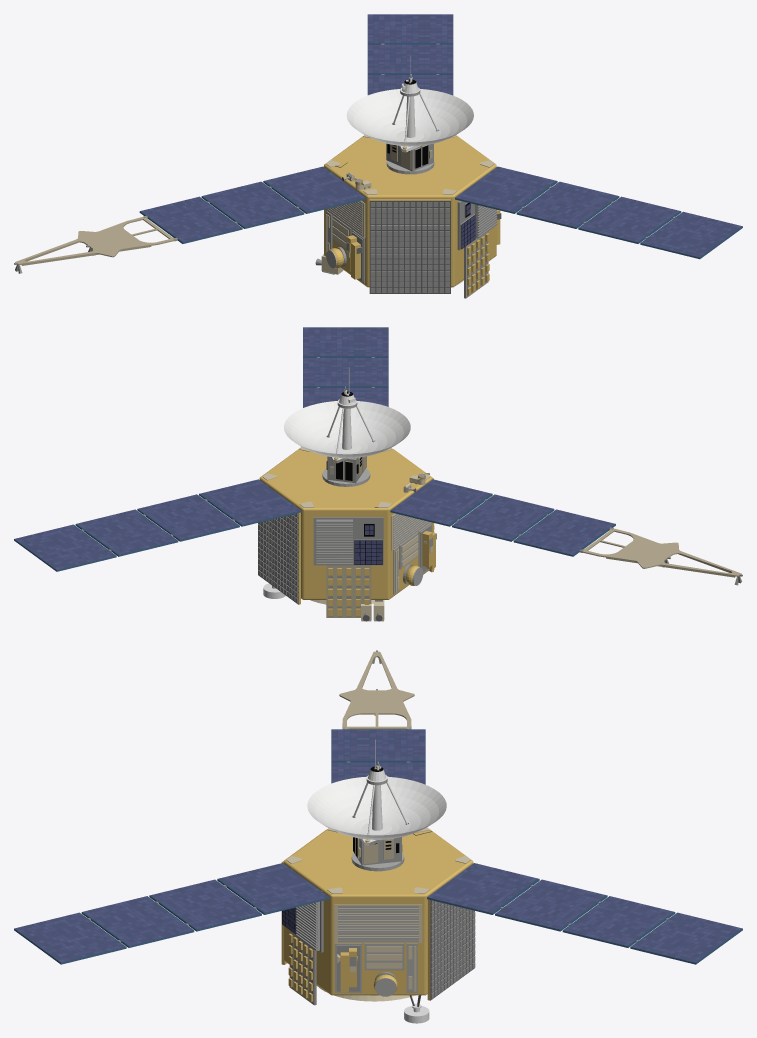
Rendered from juno.glb.
3 renders of one model, top to bottom at view 1: azimuth 30°, elevation 25°; view 2: azimuth 150°, elevation 25°; view 3: azimuth 270°, elevation 25°, orthographic. The views are drawn at different scales.
Parts seen in each view (by area): view 1: Layer_0; view 2: Layer_0; view 3: Layer_0.
Boxes of the visible parts, x1,y1,x2,y2 form: Layer_0: [14, 14, 742, 298]; Layer_0: [14, 327, 742, 621]; Layer_0: [14, 650, 742, 1023].
Bounding box in the file's own units: 23.26 × 8.73 × 22.92.
Materials: 2 (2 with a texture image).
